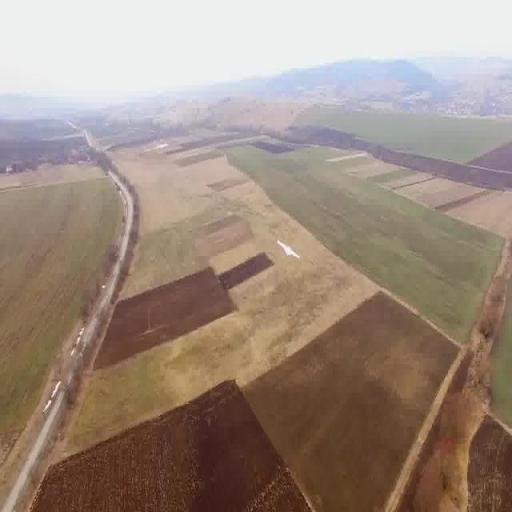uav: (272, 224, 312, 278)
